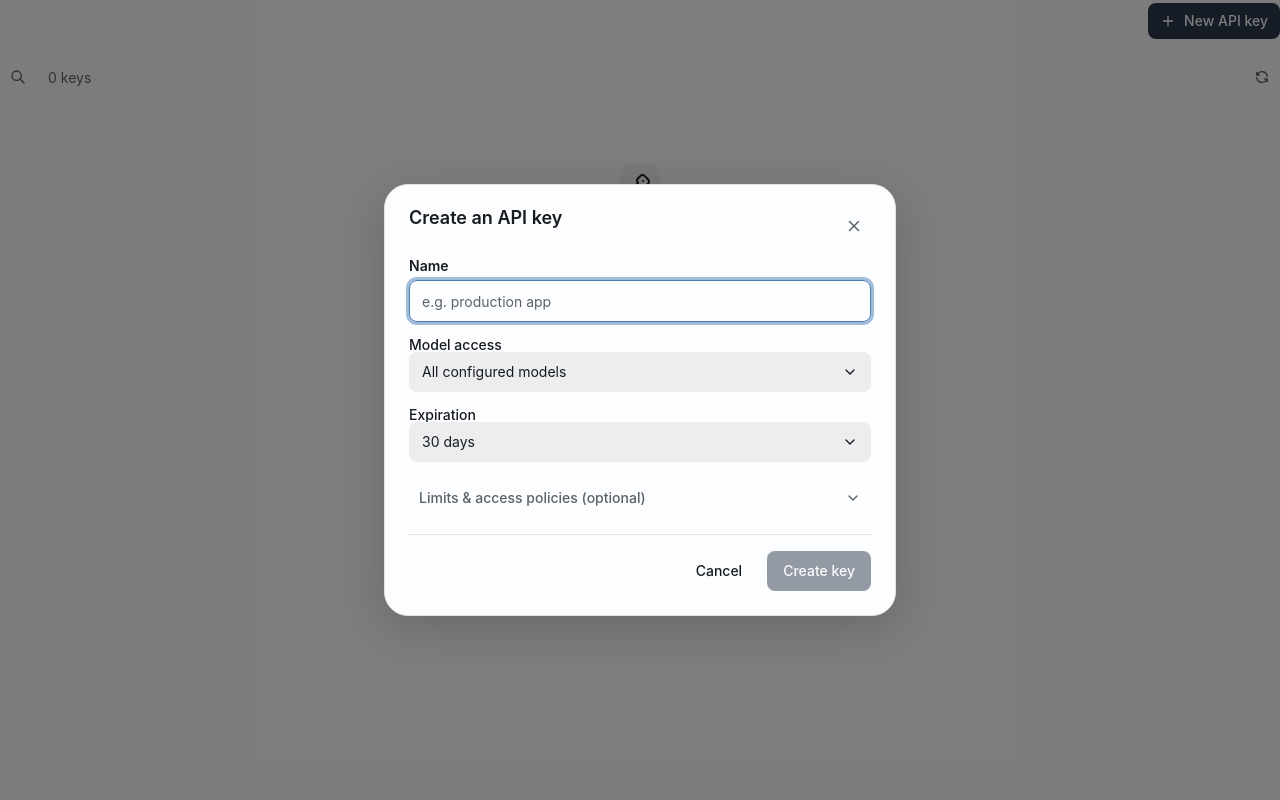
Test: uses the shared creation dialog from the legacy route without requiring models
Expected: the dialog "Create an API key" is shown, [384,184,896,616]
Type "Application" into the field labelled "Name" at (640, 301), box [409,280,871,322]
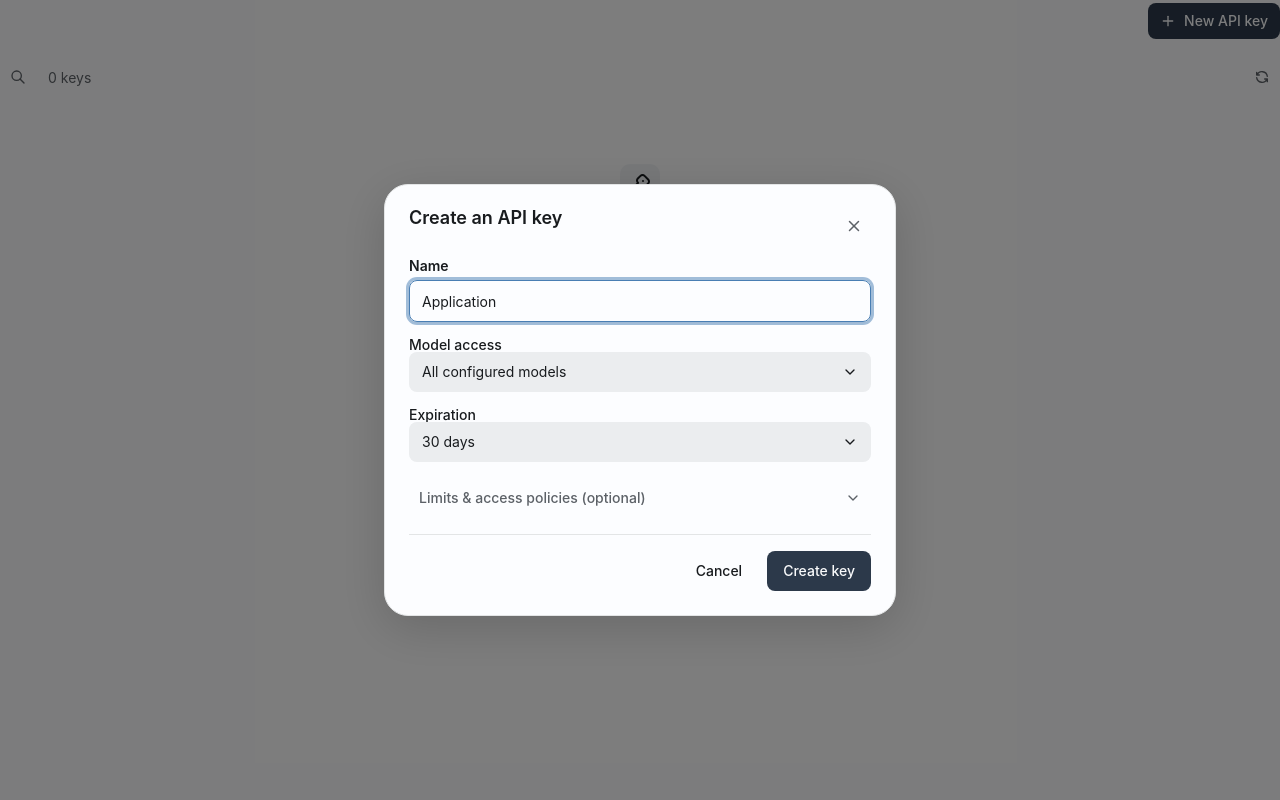
Click the button "Create key" at (819, 571), box [767,551,871,591]
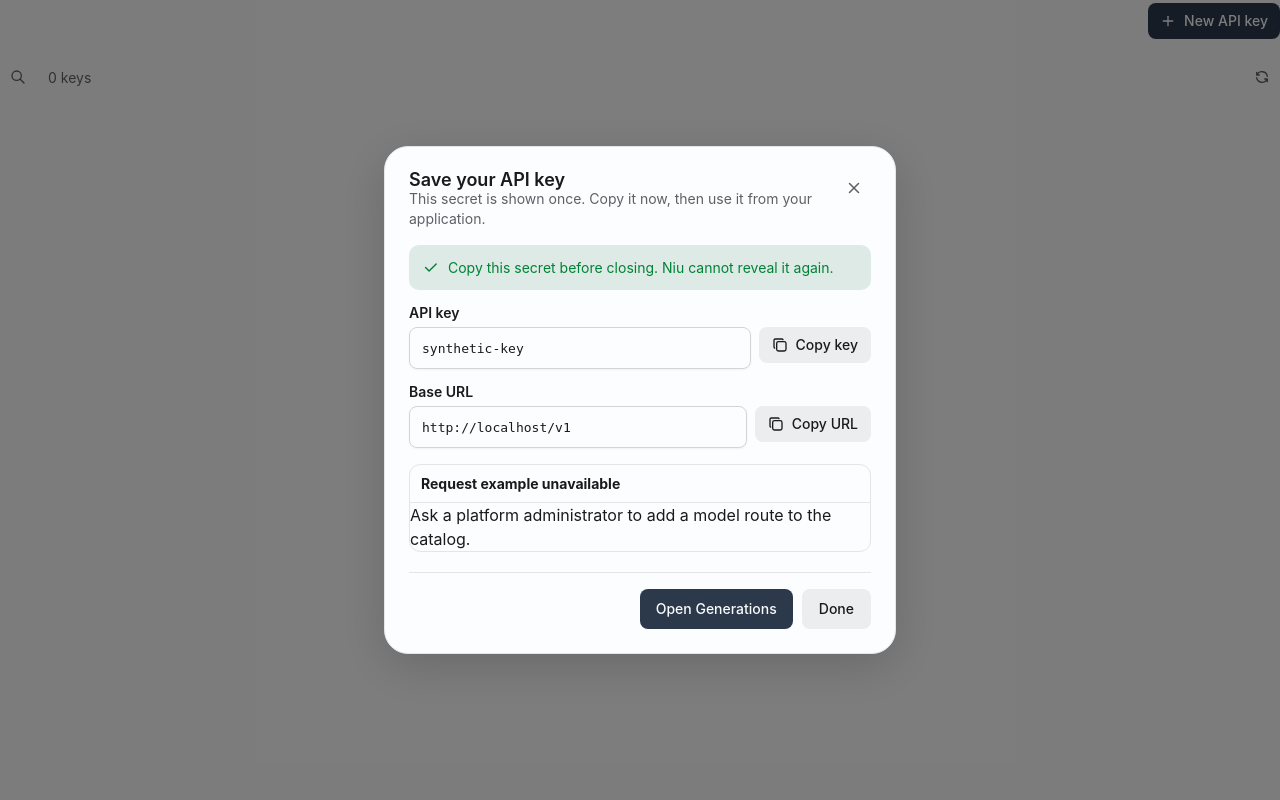
Now the heading "Save your API key" is shown, box [409,169,565,190]
